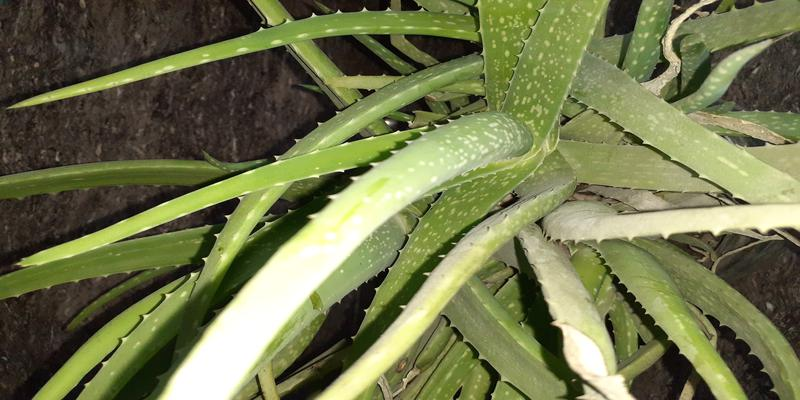Aloevera: (143, 23, 786, 378)
